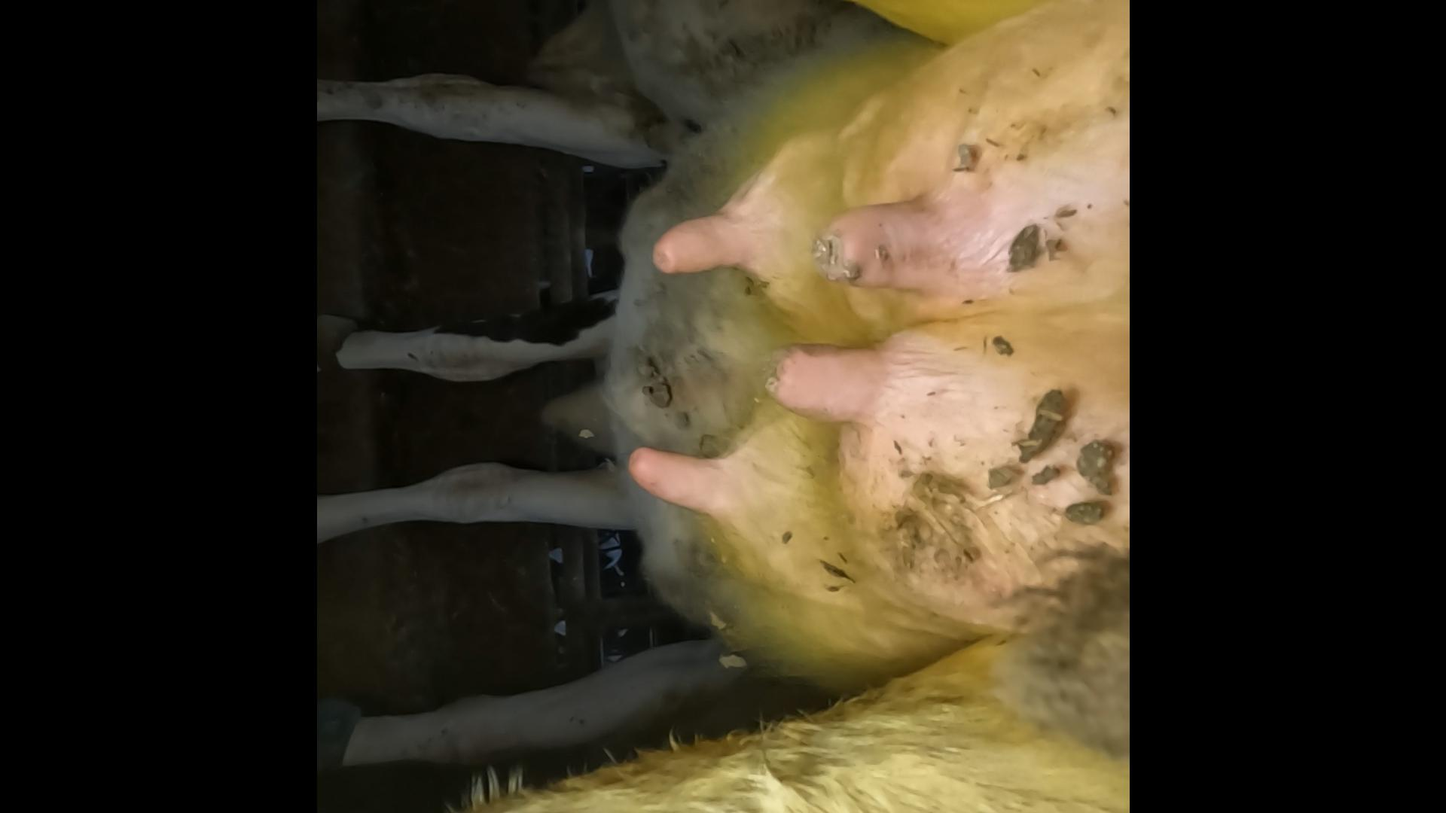Zitze: (795, 189, 947, 306), (745, 318, 894, 437), (613, 431, 752, 530), (634, 207, 773, 294)
